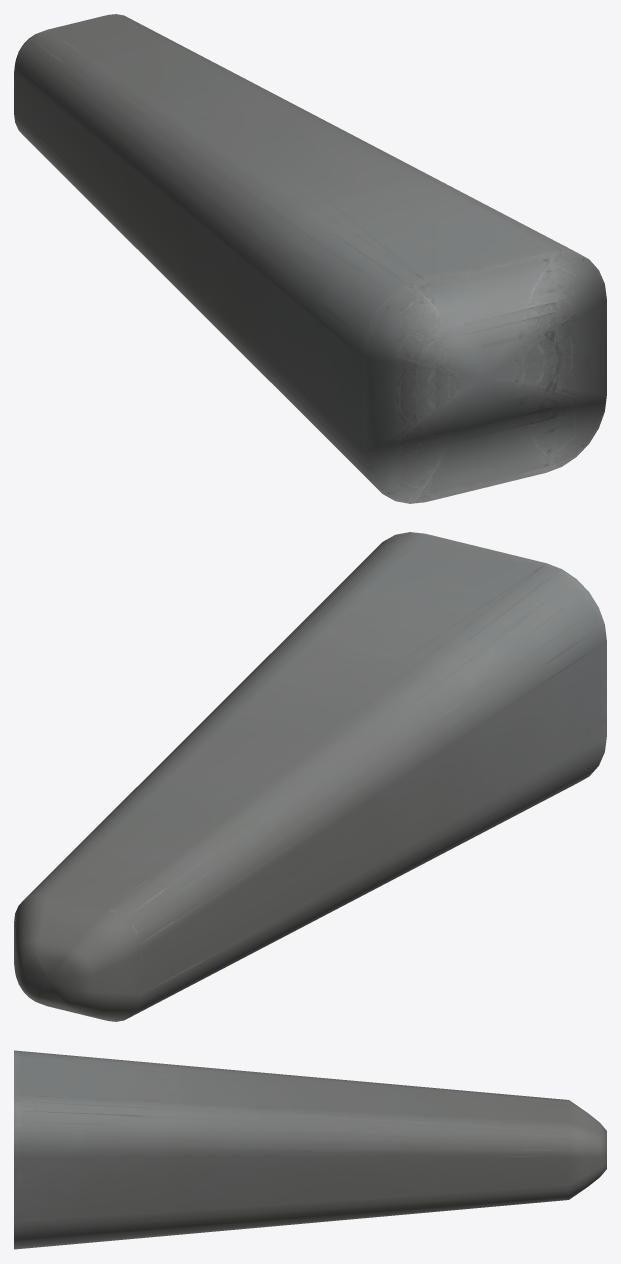
File: SM_S1_Proue.glb
3 renders of one model, top to bottom at view 1: azimuth 30°, elevation 25°; view 2: azimuth 150°, elevation 25°; view 3: azimuth 270°, elevation 25°, orthographic. The views are drawn at different scales.
Bounding box in the file's own units: 0.64 × 0.56 × 2.
Materials: 1 (1 with a texture image).
